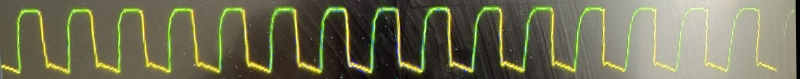normal_pressure: (0, 0, 781, 77)
